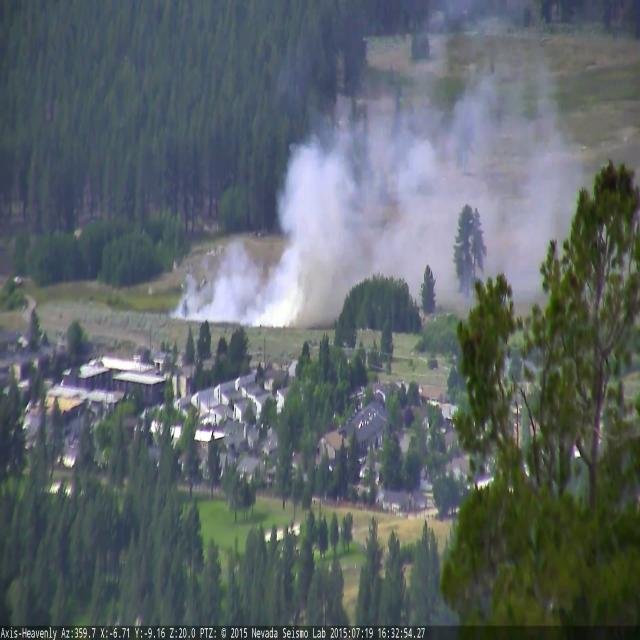smoke: (168, 76, 602, 325)
